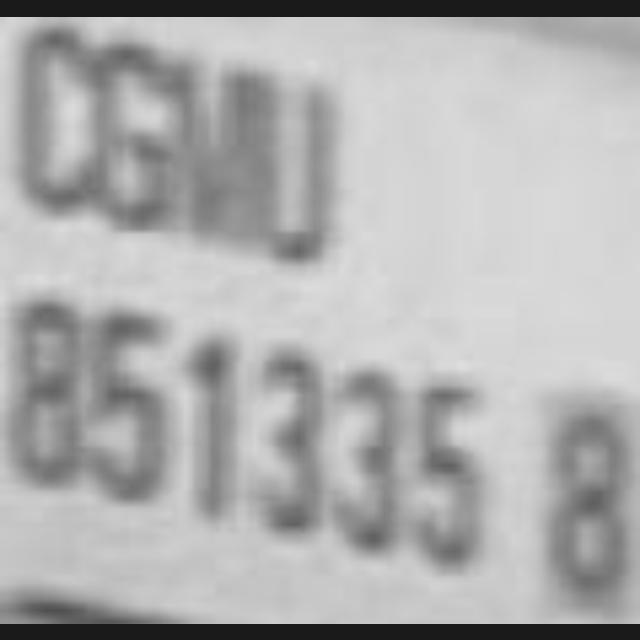1: (184, 319, 248, 541)
3: (253, 334, 330, 548), (336, 354, 400, 556)
5: (90, 300, 178, 512), (408, 372, 484, 572)
8: (544, 391, 636, 611), (6, 285, 92, 495)
c: (12, 21, 102, 226)
m: (174, 40, 256, 254)
s: (94, 28, 172, 234)
u: (258, 55, 346, 279)
